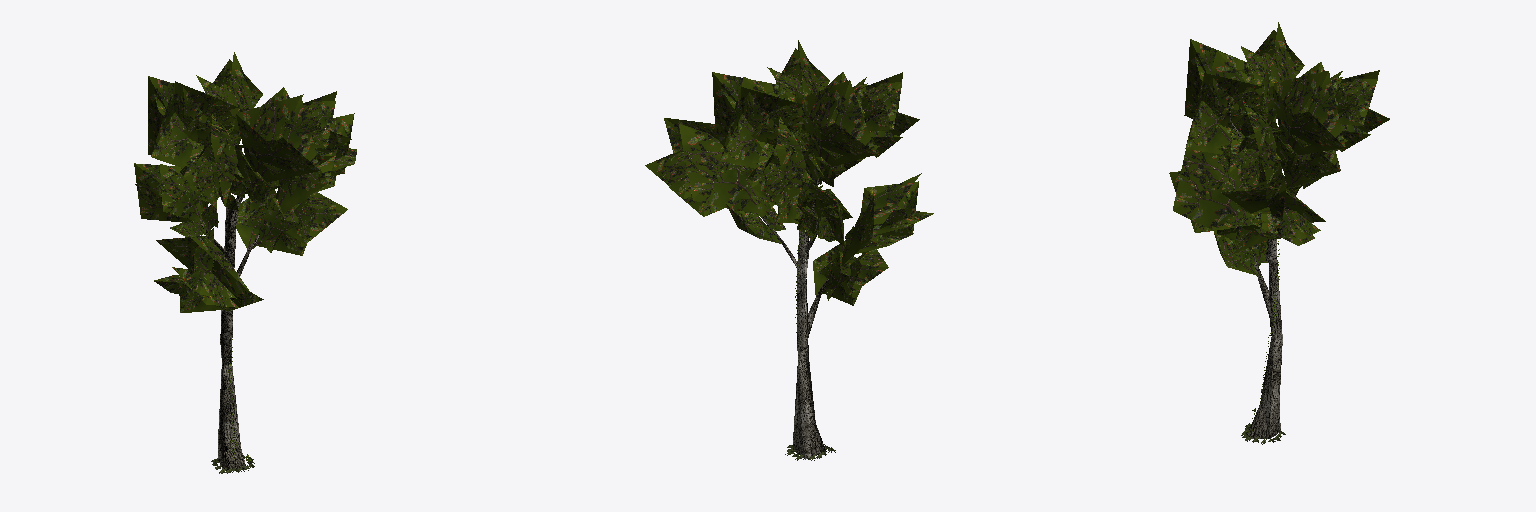
The picture shows the model from 3 angles: view 1: azimuth 30°, elevation 25°; view 2: azimuth 150°, elevation 25°; view 3: azimuth 270°, elevation 25°; orthographic projection.
Bounding box in the file's own units: 11.59 × 19.22 × 9.91.
Materials: 4 (4 with a texture image).